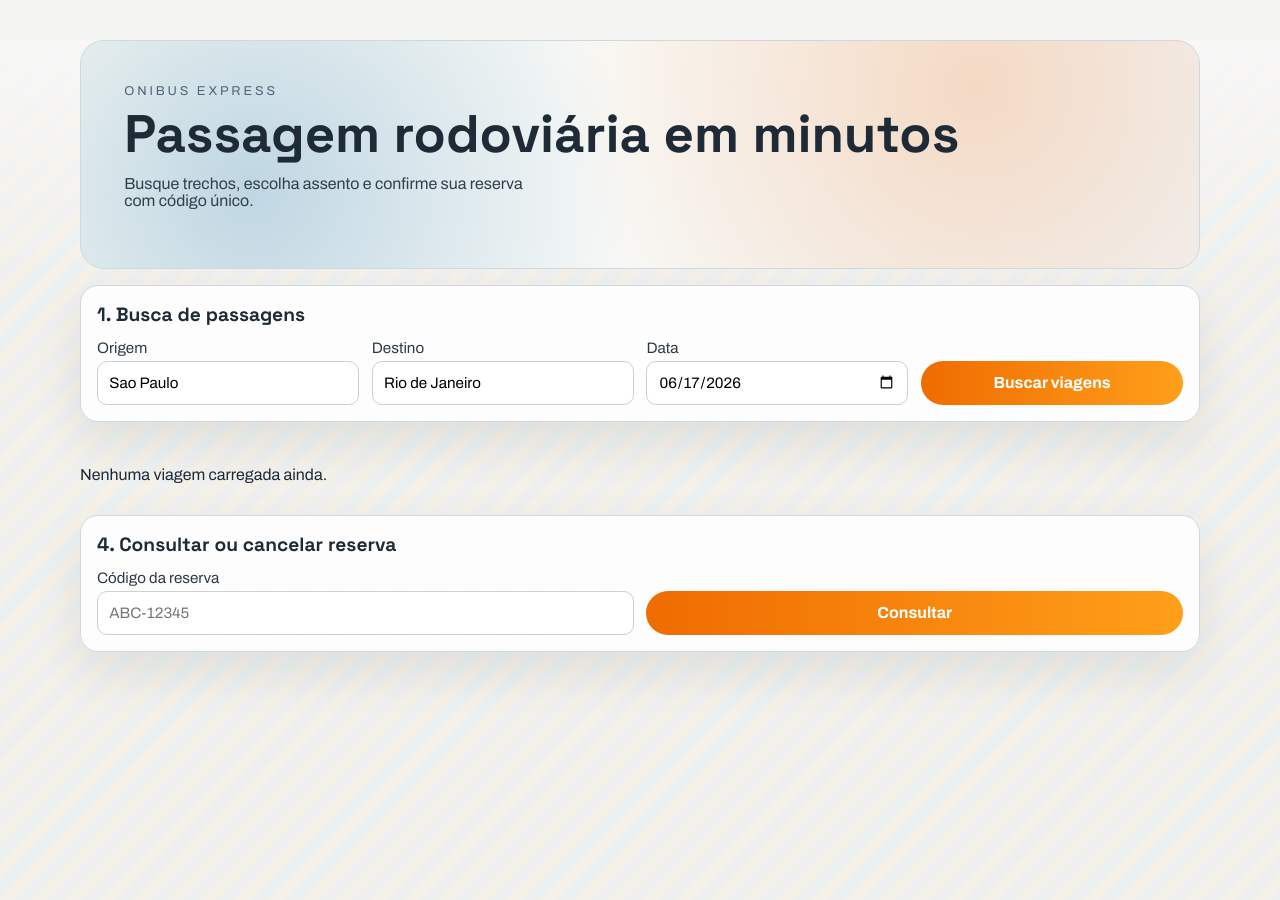
Scenario: App - comportamento do usuario › deve exibir popup de erro ao consultar reserva invalida e fechar com Esc
In the field labelled "Código da reserva": [365, 613] box [97,591,634,635], type "ABC-00000"
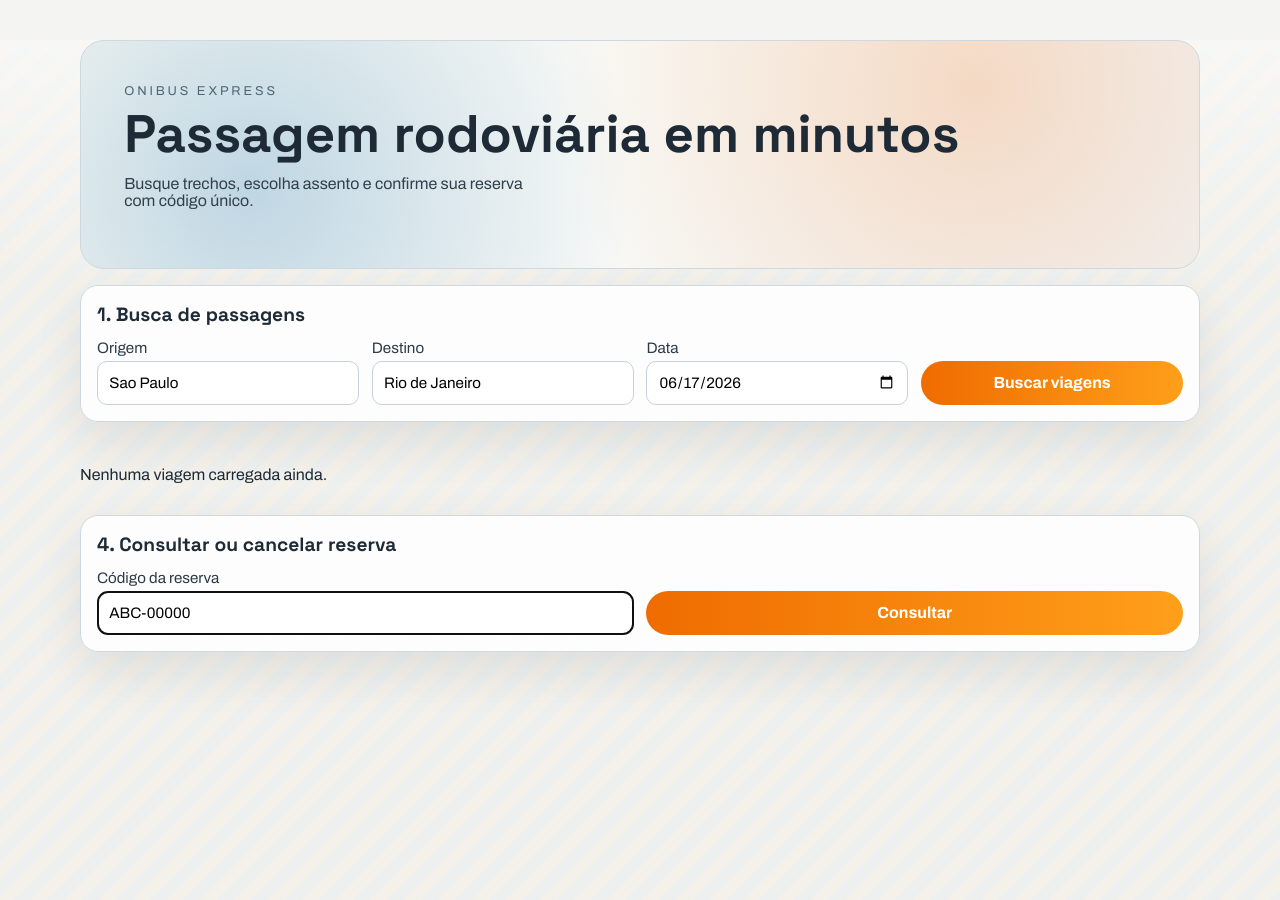
Click the button "Consultar": [915, 613] box [646,591,1183,635]
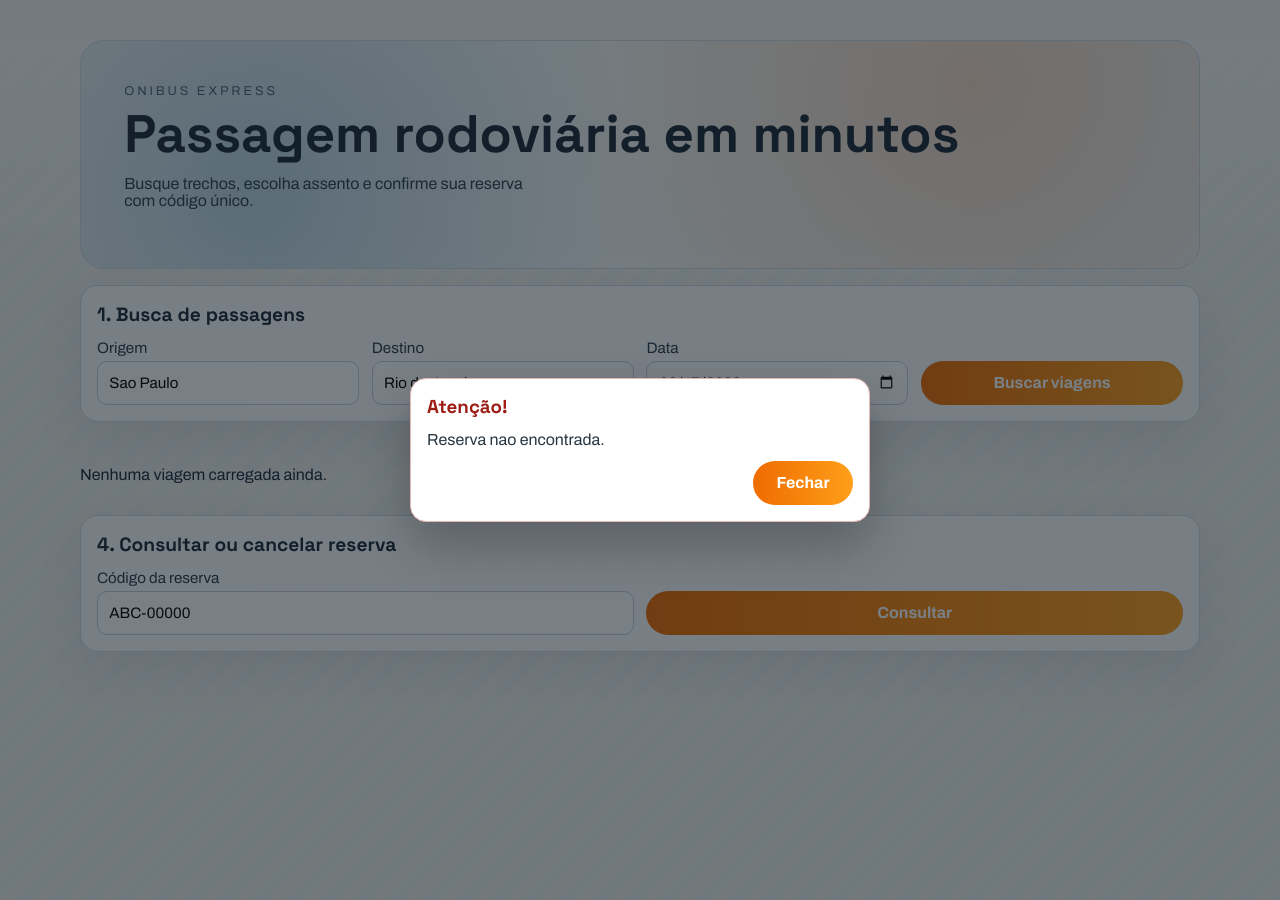
Check: the dialog is shown, box [410,378,870,522]
Check: the heading "Atenção!" is shown, box [427,395,508,418]
Check: the text "Reserva nao encontrada." is shown, box [427,431,605,448]
Press Escape
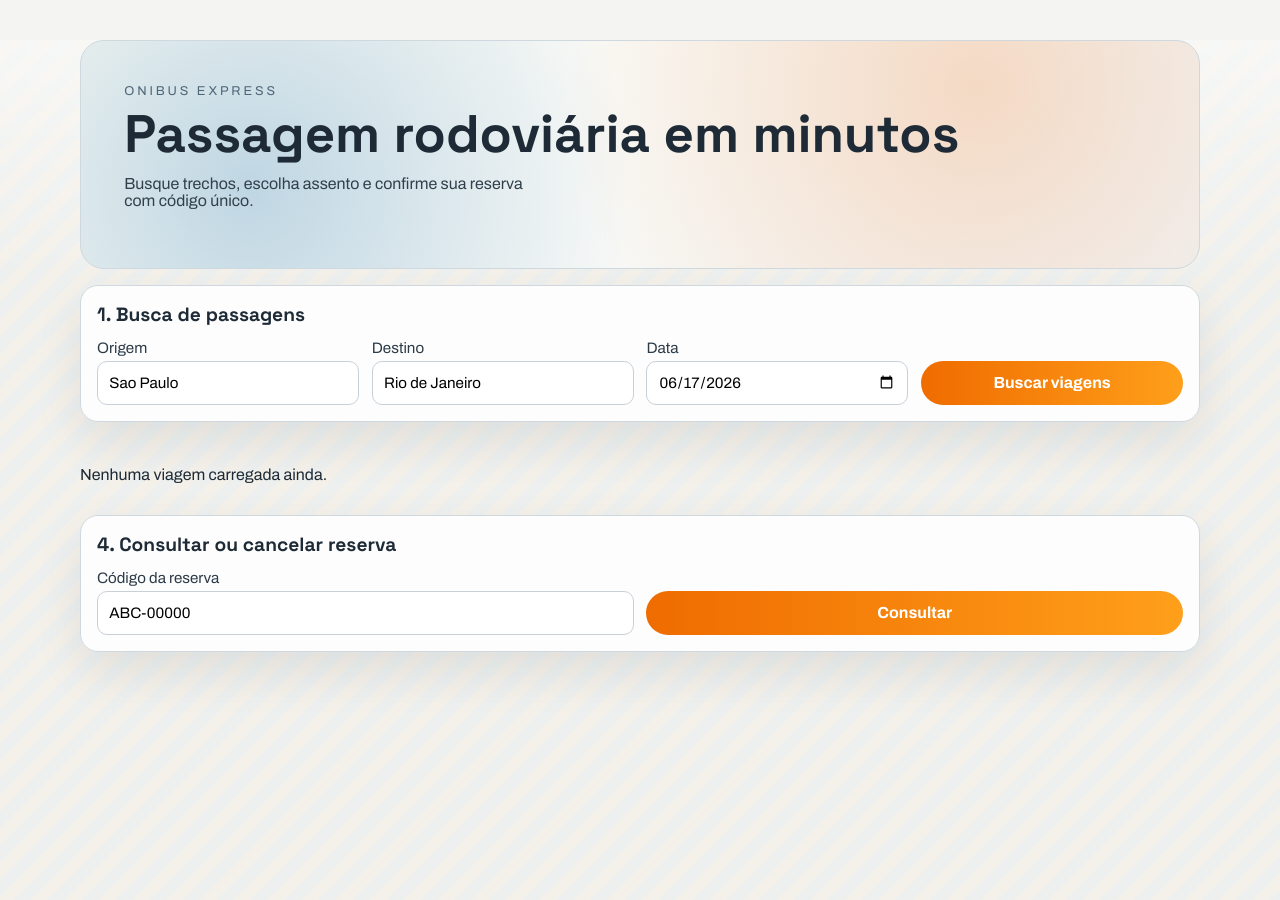
Check: the dialog is gone
